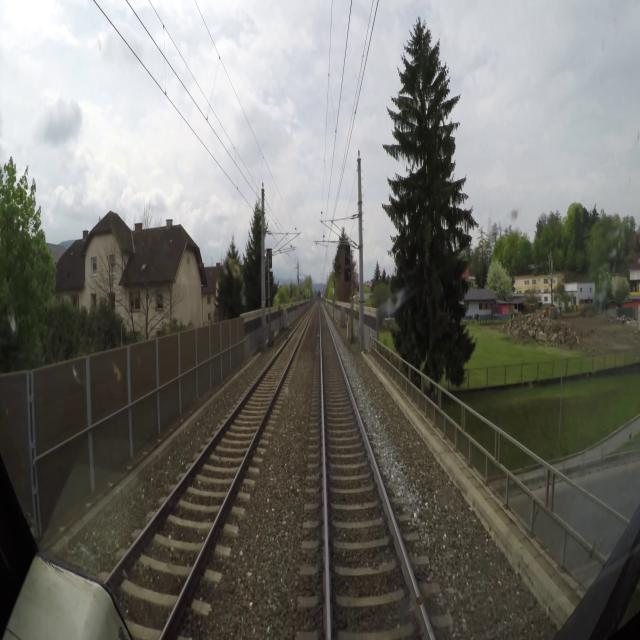rail-track: (110, 309, 311, 639), (320, 306, 431, 639)
